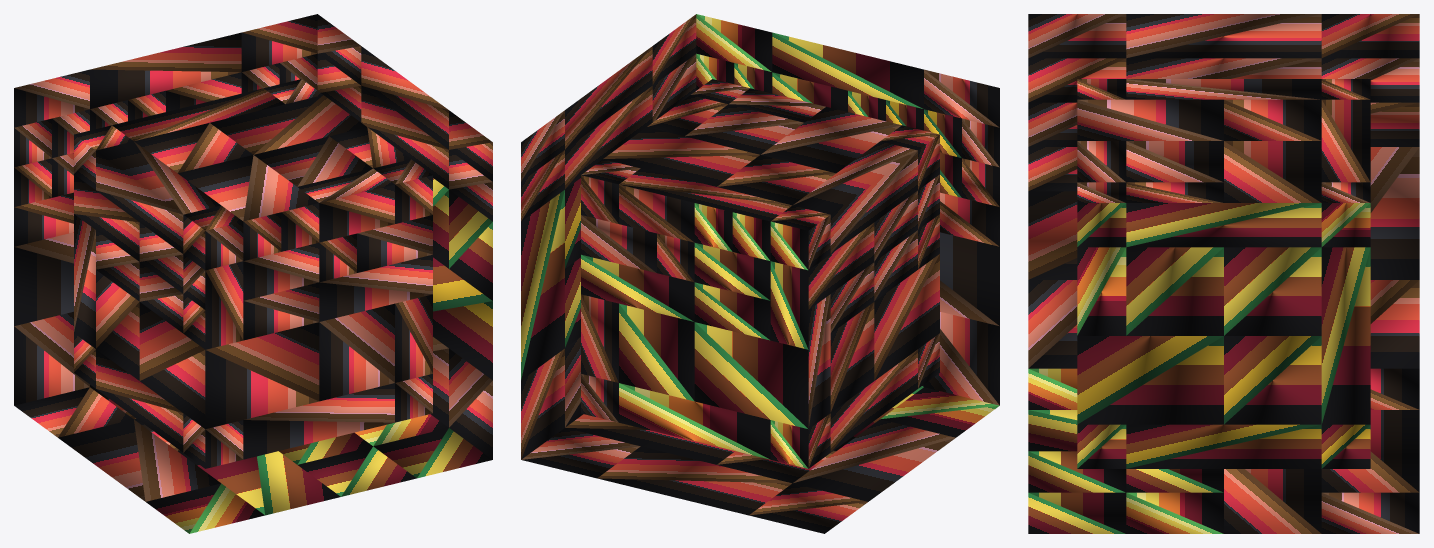
Rendered from grassblock.glb.
3 renders of one model, left to right at view 1: azimuth 30°, elevation 25°; view 2: azimuth 150°, elevation 25°; view 3: azimuth 270°, elevation 25°, orthographic. The views are drawn at different scales.
Parts seen in each view (by area): view 1: grassblock; view 2: grassblock; view 3: grassblock.
Part boxes in pixels (x1=…): grassblock: x1=14, y1=14, x2=492, y2=533; grassblock: x1=521, y1=14, x2=999, y2=533; grassblock: x1=1028, y1=14, x2=1419, y2=533.
Size of the model in its own units: 0.95 by 0.95 by 0.95.
1 material, 1 textured.
